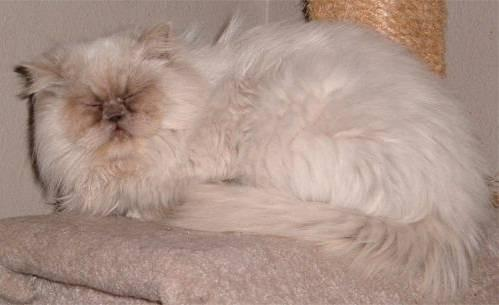cat: (16, 18, 489, 297)
